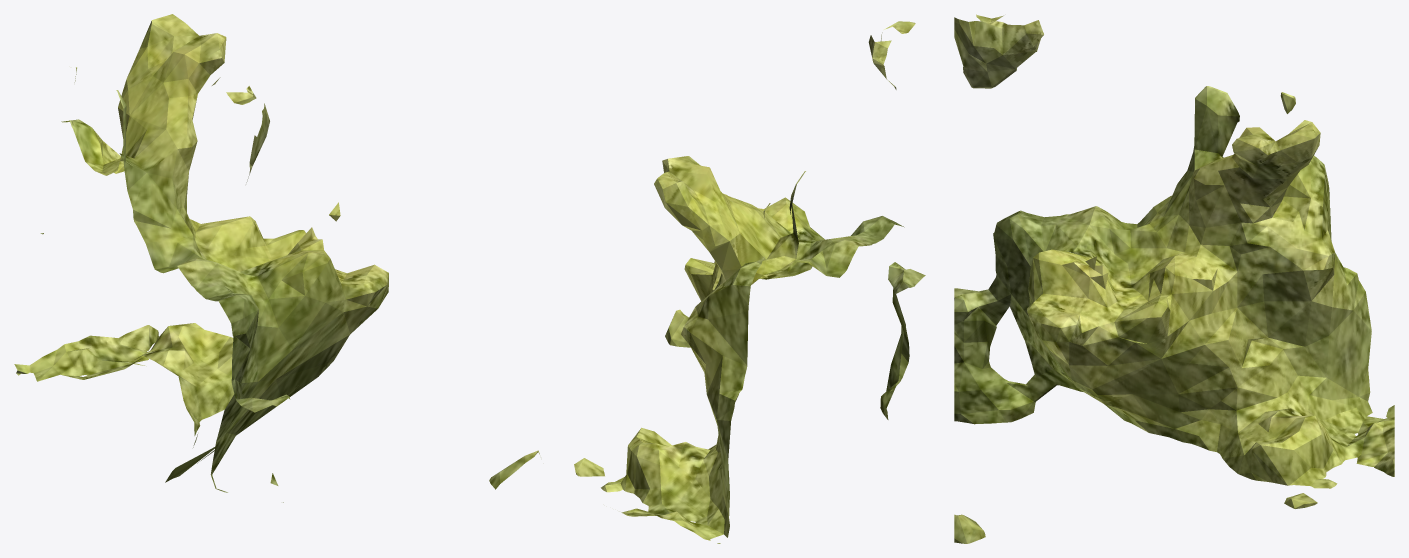
3 renders of one model, left to right at view 1: azimuth 30°, elevation 25°; view 2: azimuth 150°, elevation 25°; view 3: azimuth 270°, elevation 25°, orthographic. The views are drawn at different scales.
Size of the model in its own units: 2.08 by 2.95 by 2.95.
3 materials, 3 textured.
